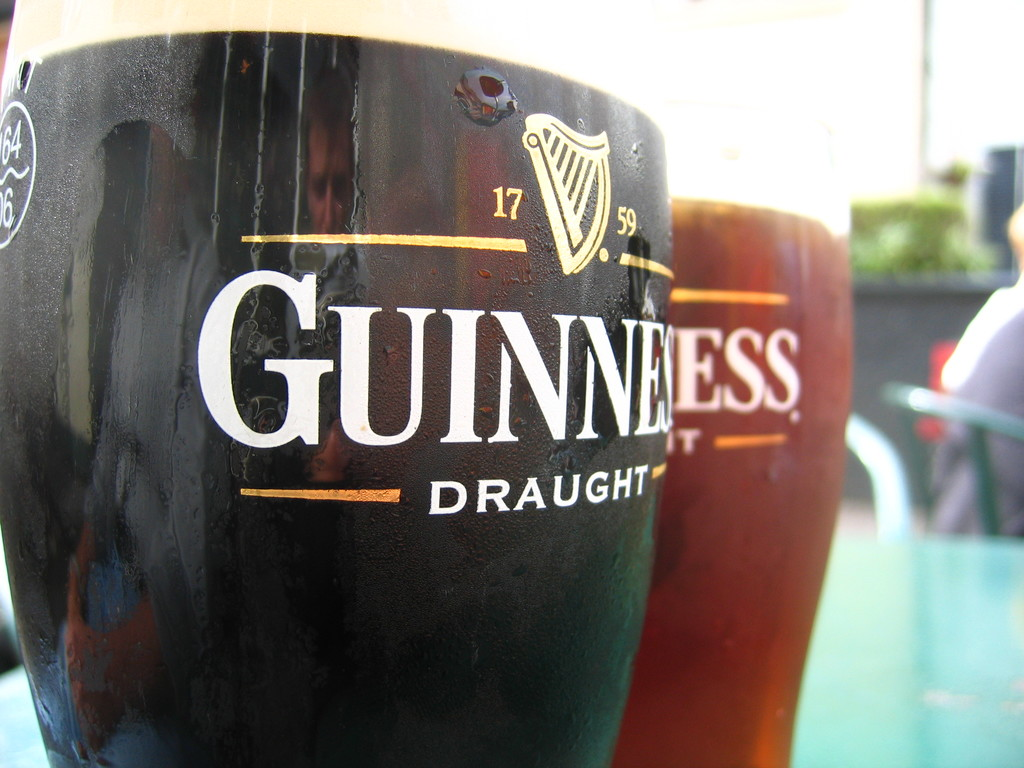Beer: (0, 0, 711, 767), (664, 0, 874, 767)
